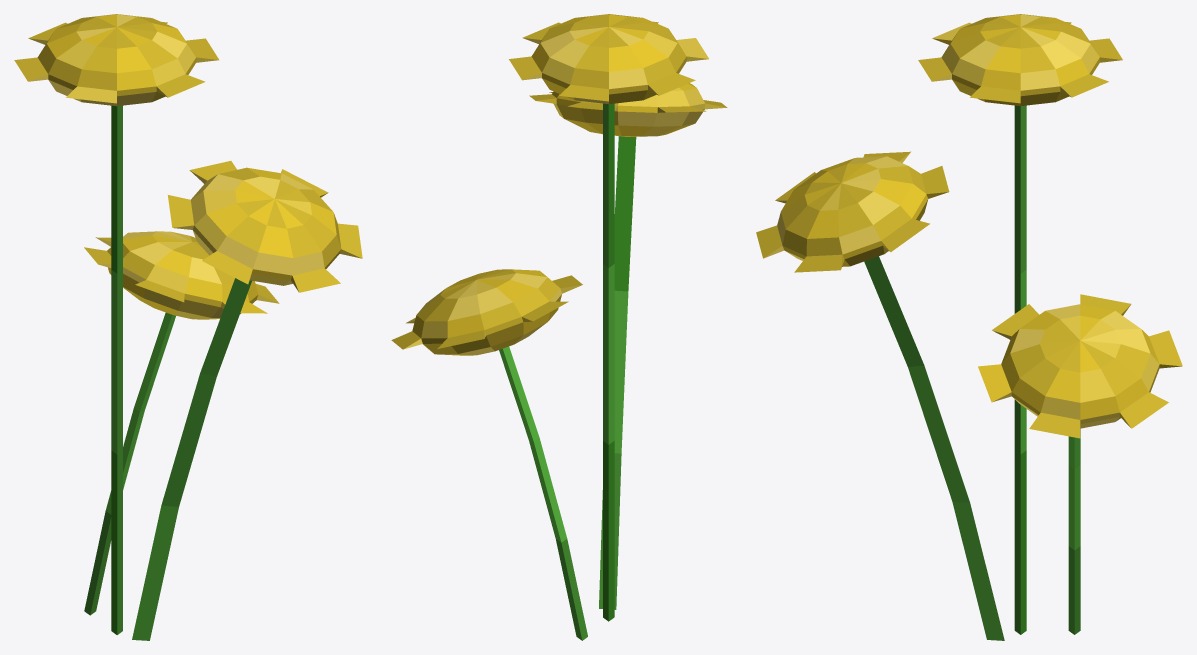
The model's file is sibur.glb.
3 views of the same model, side by side, from view 1: azimuth 30°, elevation 25°; view 2: azimuth 150°, elevation 25°; view 3: azimuth 270°, elevation 25° (orthographic). The views are drawn at different scales.
Parts seen in each view (by area): view 1: Cylinder002; view 2: Cylinder002; view 3: Cylinder002.
Part boxes in pixels (box(x1,y1,x2,y2)): Cylinder002: box(14, 14, 362, 640); Cylinder002: box(391, 14, 727, 640); Cylinder002: box(756, 14, 1182, 640).
Bounding box in the file's own units: 55.19 × 119 × 76.4.
Materials: 1 (1 with a texture image).
